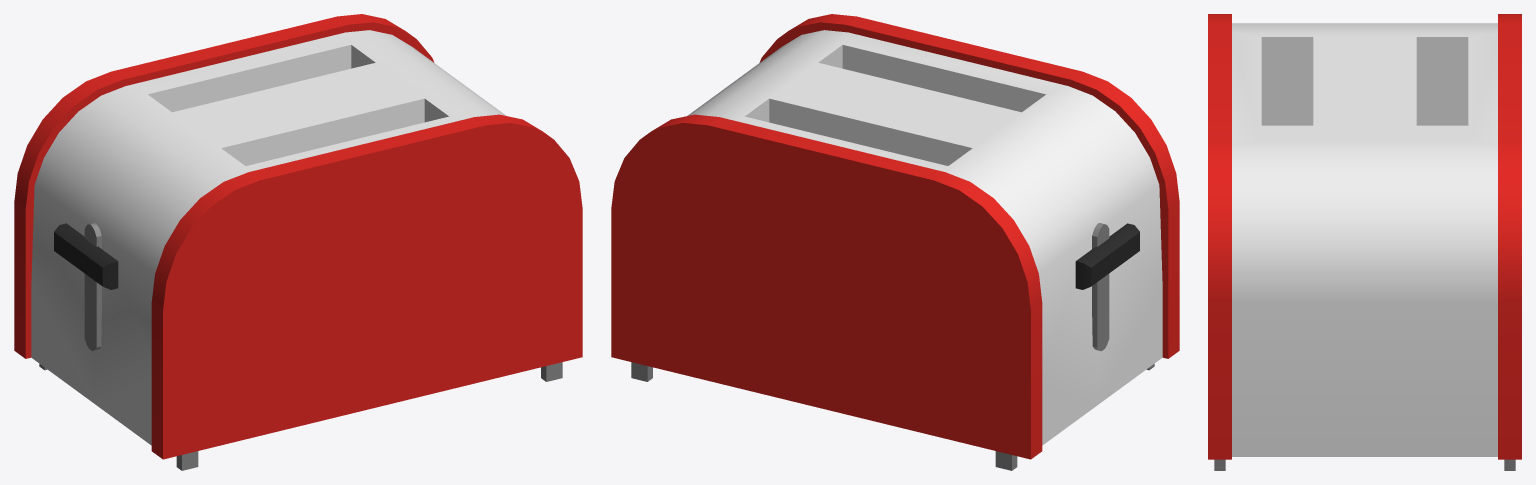
The model's file is toaster.fbx.
3 renders of one model, left to right at view 1: azimuth 30°, elevation 25°; view 2: azimuth 150°, elevation 25°; view 3: azimuth 270°, elevation 25°, orthographic. The views are drawn at different scales.
Parts seen in each view (by area): view 1: Cube.001, Cube, Cube.004, Cube.002; view 2: Cube.001, Cube, Cube.004, Cube.002; view 3: Cube, Cube.001.
Part boxes in pixels (x1,y1,x2,y2): Cube.001: [14, 14, 582, 470]; Cube: [31, 30, 506, 445]; Cube.004: [54, 223, 118, 289]; Cube.002: [84, 223, 101, 351]; Cube.001: [611, 14, 1179, 470]; Cube: [687, 30, 1162, 445]; Cube.004: [1075, 223, 1139, 289]; Cube.002: [1092, 223, 1109, 351]; Cube: [1232, 23, 1497, 456]; Cube.001: [1208, 14, 1521, 470].
Size of the model in its own units: 158 by 96.28 by 94.57.
